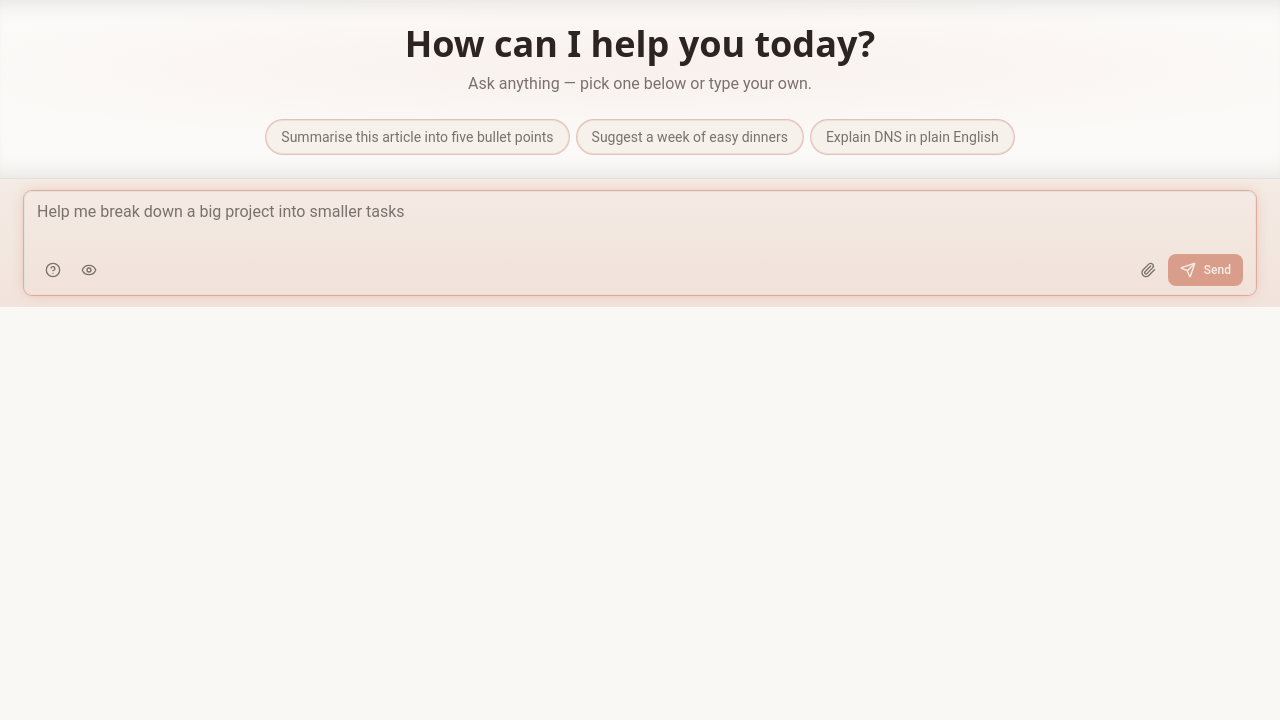
ChatWindow capabilities panel (#366) › fetches lazily and renders built-in and deferred groups on open
Click the button with test id "capabilities-toggle" at (53, 270), box [37,254,69,286]
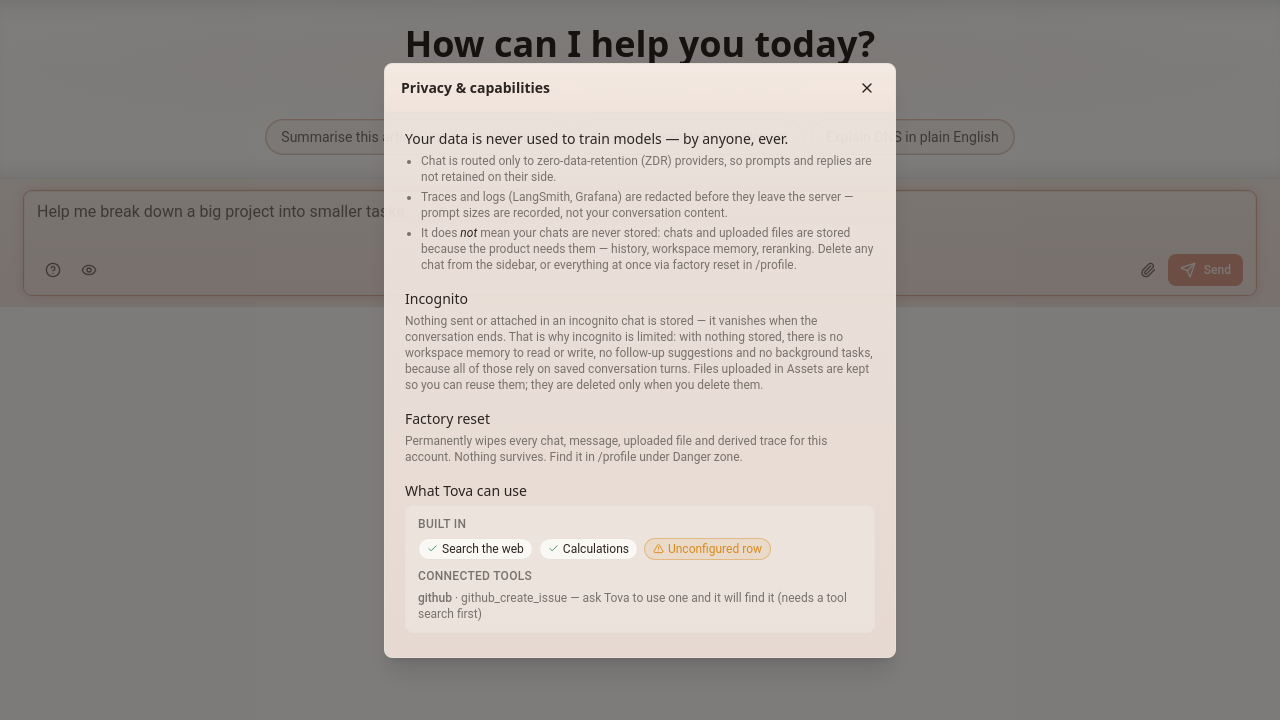
Expected: the element with test id "capabilities-panel" is shown, [405,504,875,632]
Expected: the element with test id "capability-web_search" is shown, [418,538,533,560]
Expected: the element with test id "capability-connector-github" is shown, [418,590,862,622]
